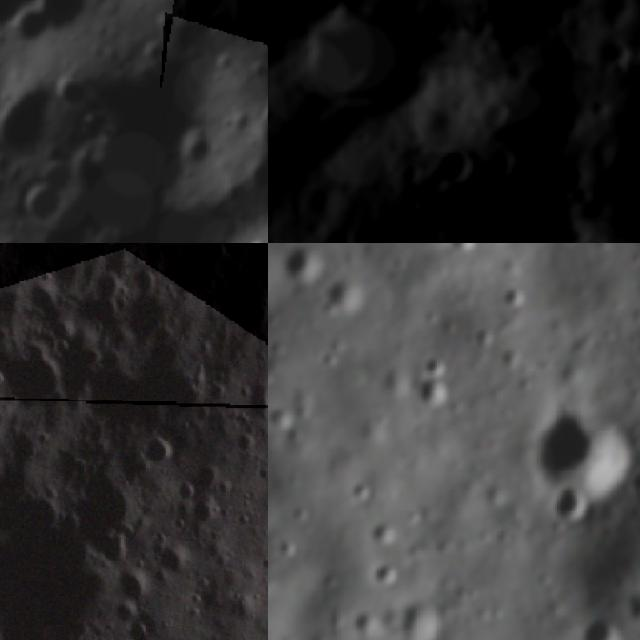crater: (530, 406, 640, 500), (439, 171, 553, 243), (0, 319, 68, 416), (407, 134, 485, 212), (0, 71, 59, 171), (457, 82, 520, 144), (0, 0, 64, 61), (13, 175, 74, 237), (579, 23, 639, 85), (42, 60, 102, 121), (164, 116, 223, 178), (466, 133, 522, 190), (163, 0, 232, 44), (142, 535, 195, 586), (392, 590, 446, 640), (279, 243, 330, 292), (322, 273, 372, 319), (410, 374, 461, 418), (545, 478, 594, 521), (115, 565, 156, 614), (173, 243, 230, 277), (236, 287, 268, 341), (366, 555, 404, 600), (140, 433, 177, 479), (409, 349, 456, 384), (573, 609, 625, 640), (182, 492, 224, 530), (368, 512, 405, 552), (238, 377, 268, 424), (345, 471, 380, 508), (230, 432, 266, 467), (351, 606, 387, 640), (495, 280, 530, 314), (268, 399, 298, 438), (618, 580, 640, 631), (130, 264, 161, 294), (278, 531, 304, 562), (444, 243, 484, 261), (627, 310, 640, 359), (292, 501, 313, 526)
